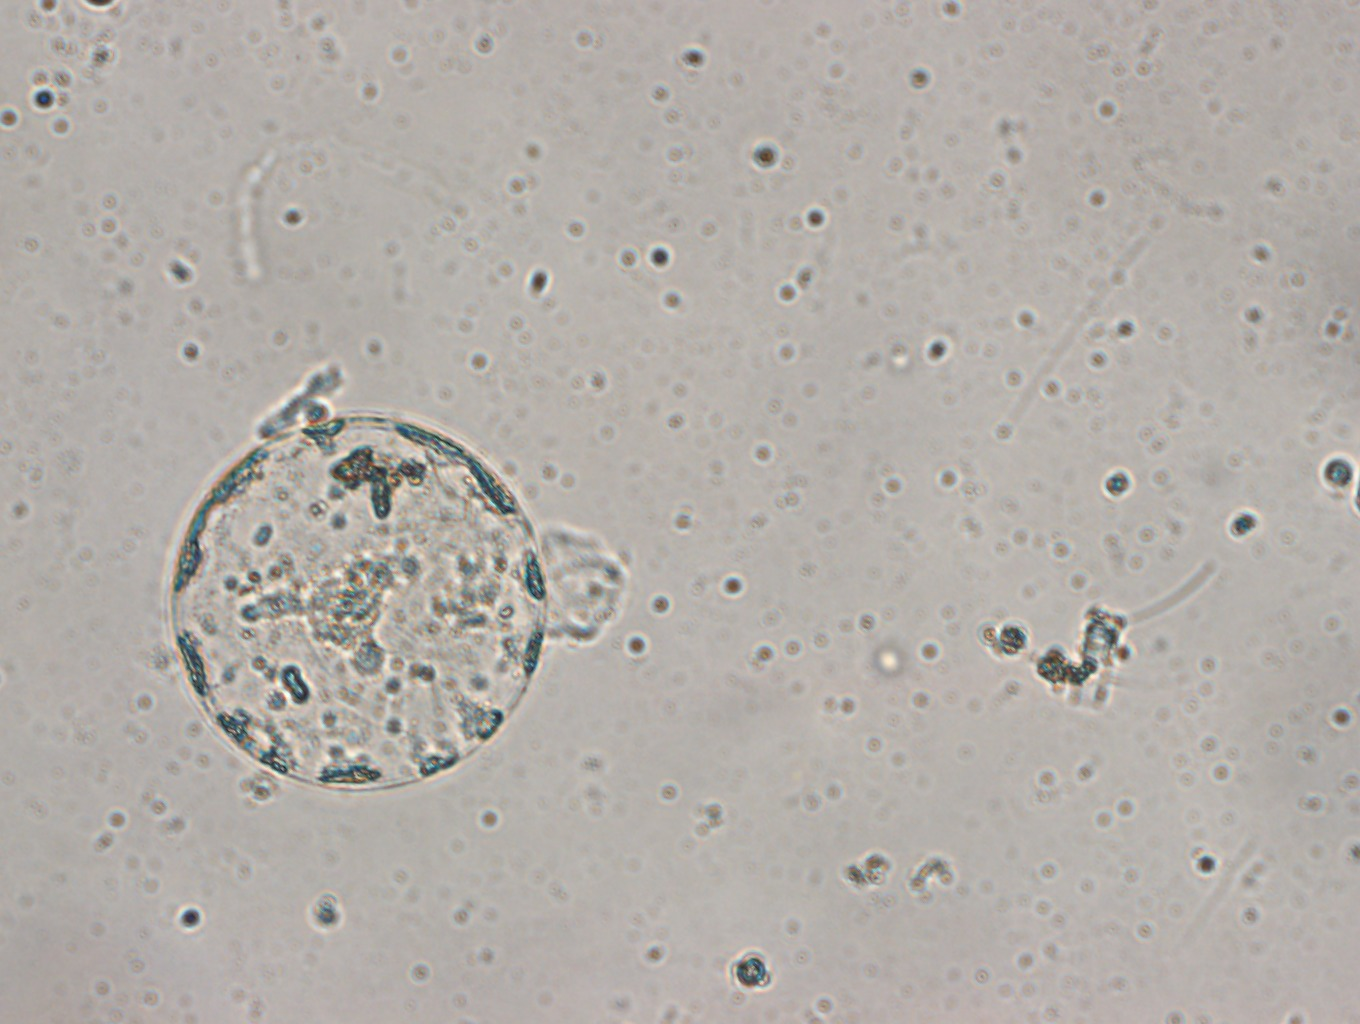coscinodiscus: (167, 409, 552, 793)
